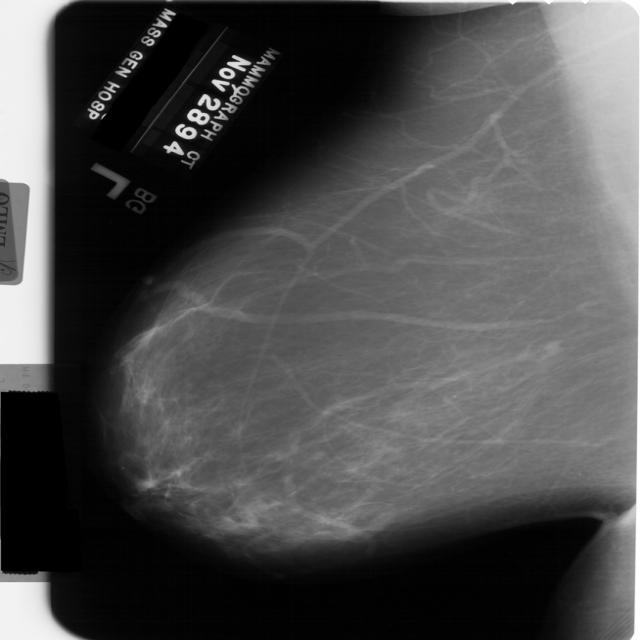tumour: (542, 338, 562, 354)
